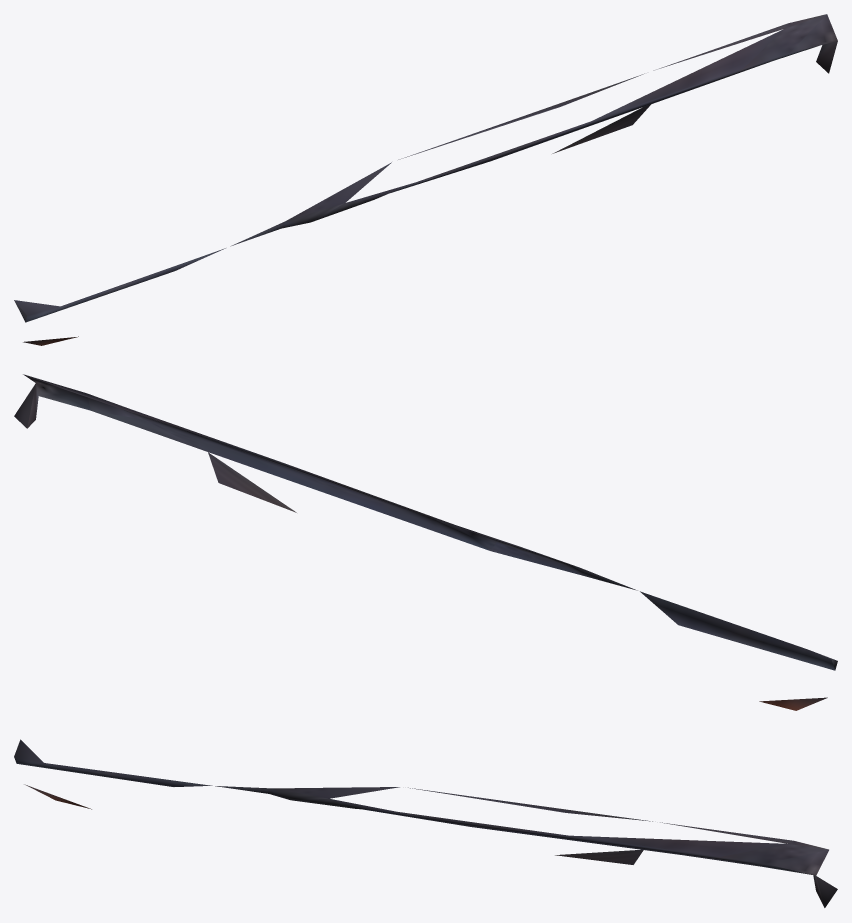
3 views of the same model, one above another, from view 1: azimuth 30°, elevation 25°; view 2: azimuth 150°, elevation 25°; view 3: azimuth 330°, elevation 25° (orthographic).
Size of the model in its own units: 4.44 by 0.7491 by 0.168.
Materials: 1 (1 with a texture image).
